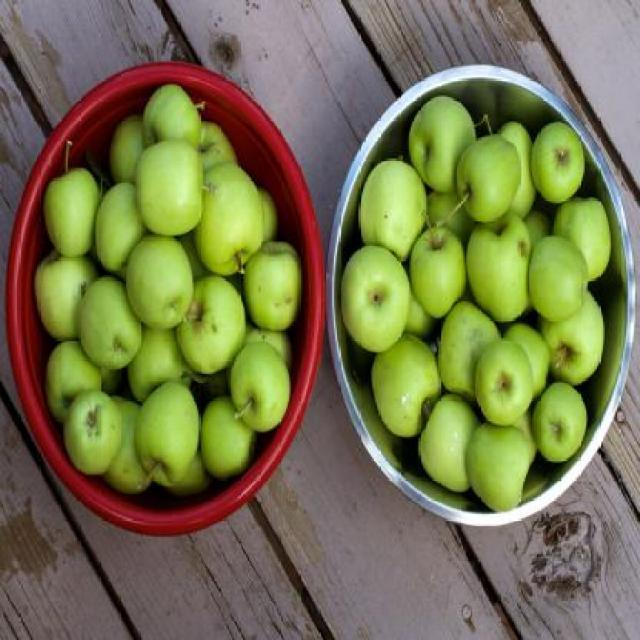Apple pie: (33, 87, 307, 496), (342, 100, 614, 512), (482, 331, 548, 427)
